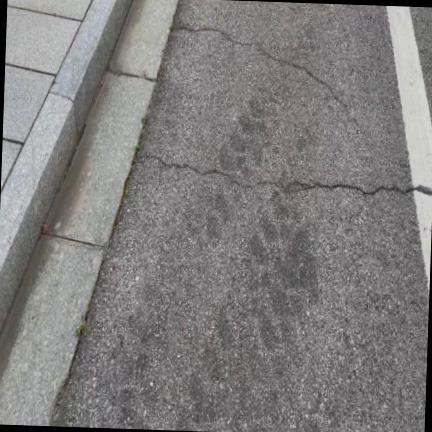Road: (56, 0, 428, 431)
